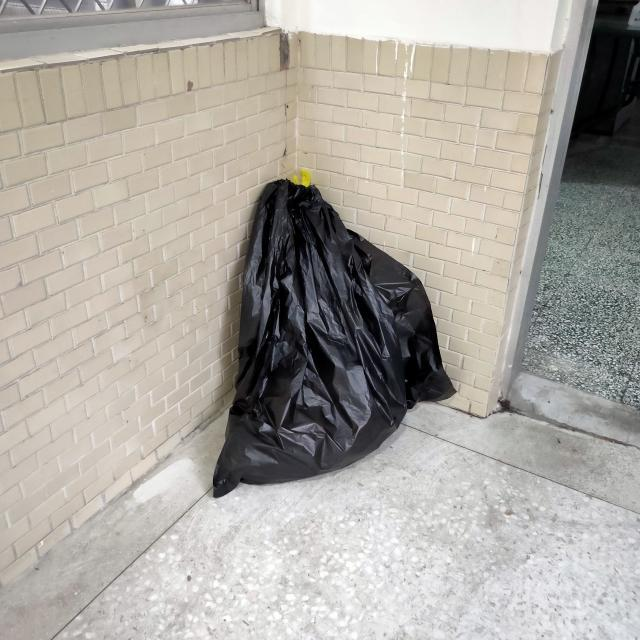Vinyl: (193, 153, 460, 504)
